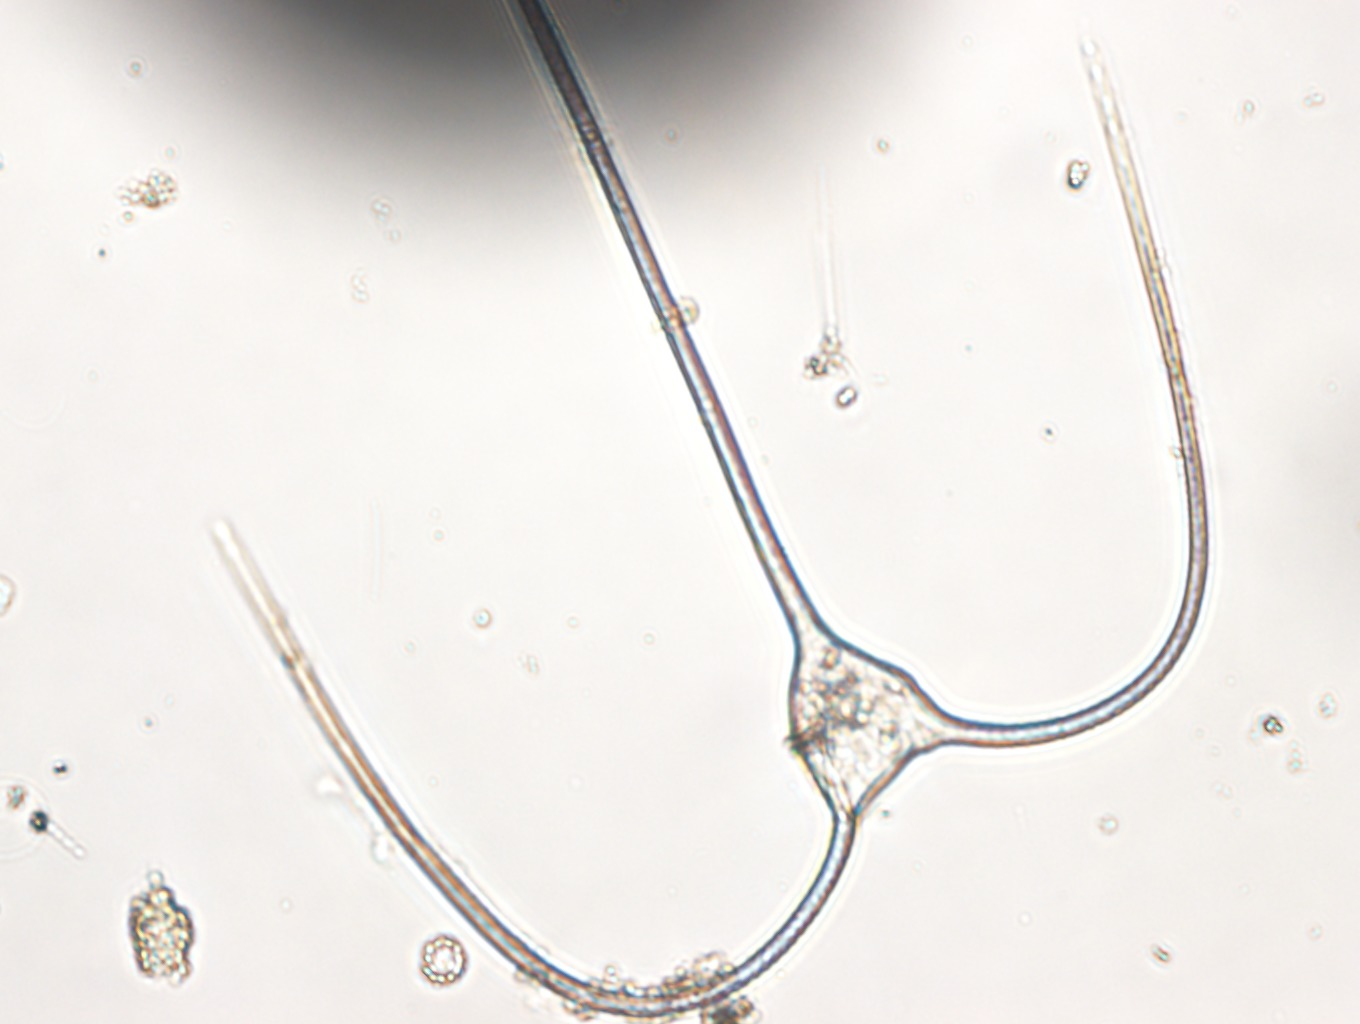ceratium trichoceros: (212, 1, 1209, 1016)
